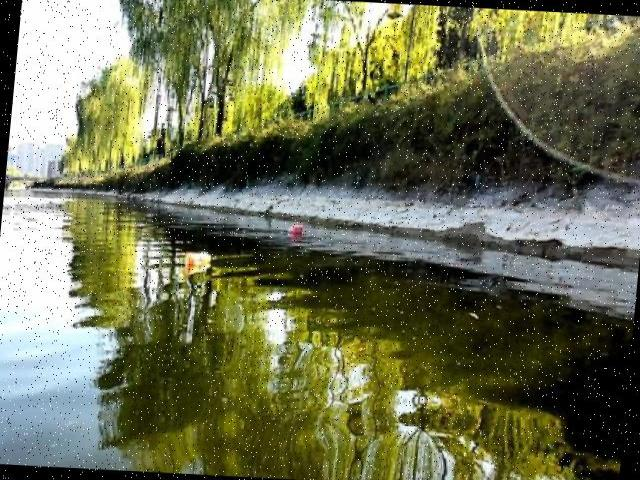Bottle: (180, 249, 218, 273), (284, 222, 312, 241)
